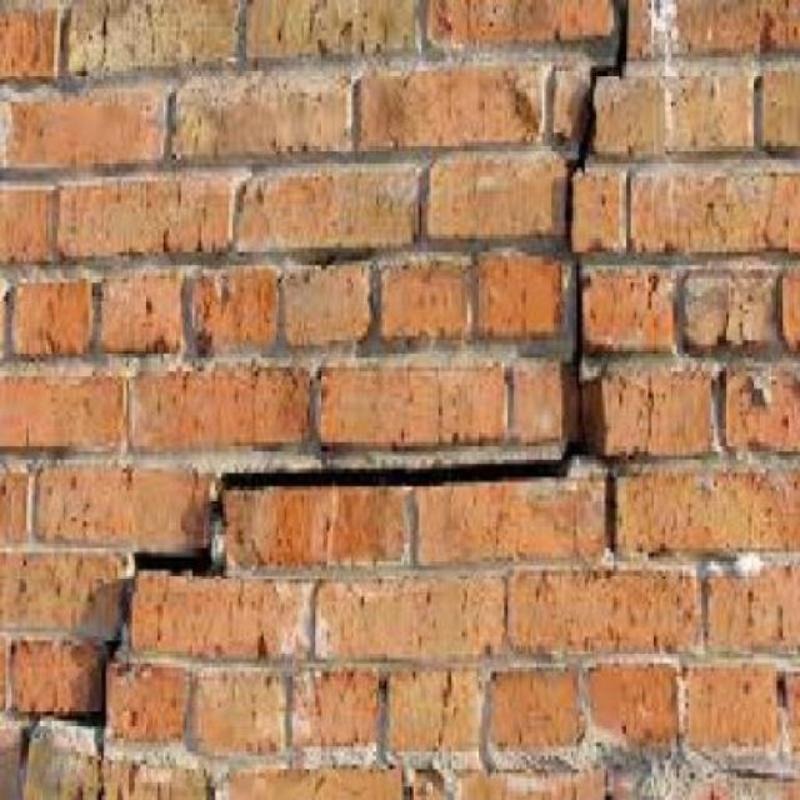pothole: (27, 0, 624, 748), (584, 446, 617, 559)
